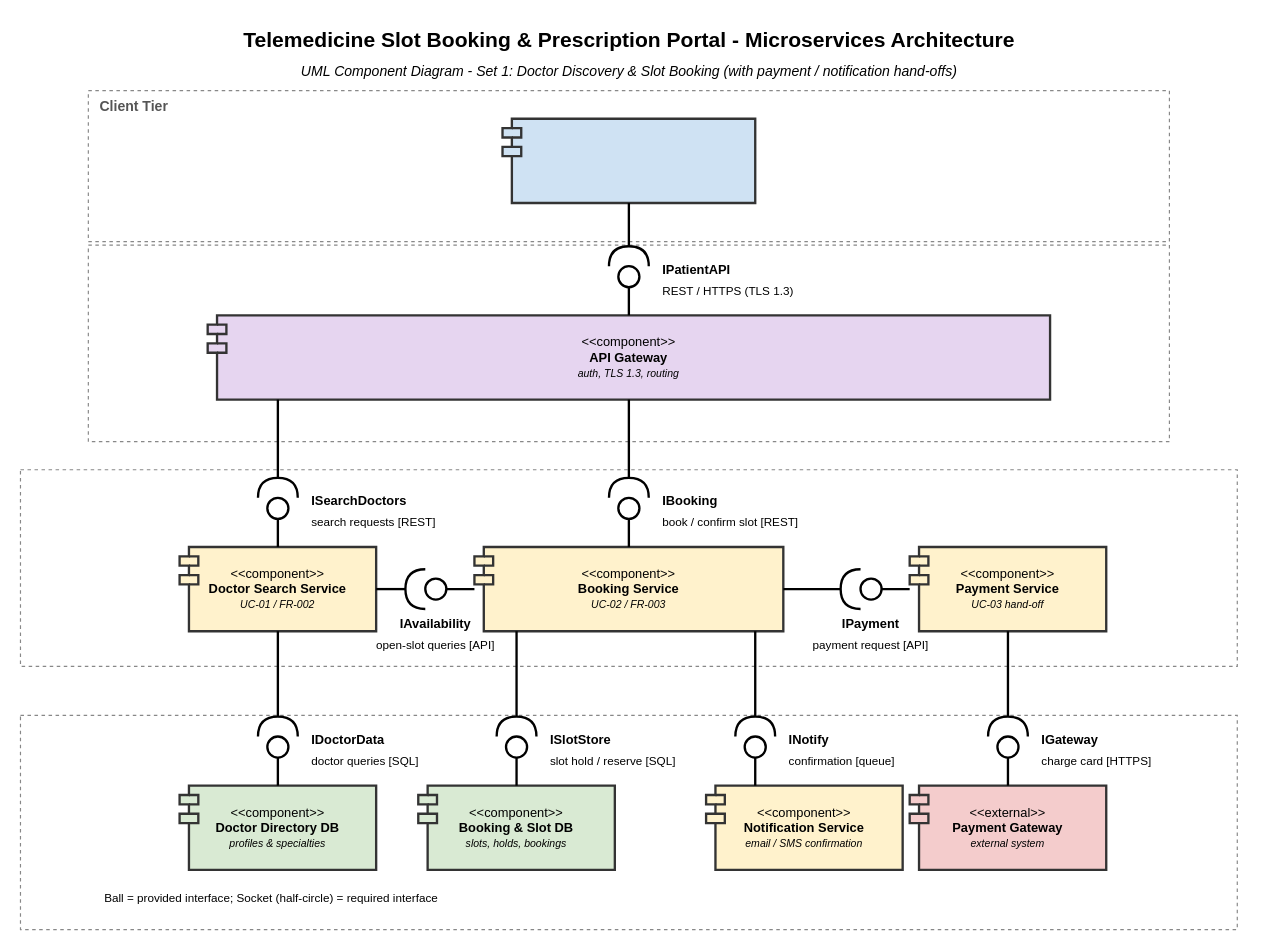
Some shapes in this 1285 by 950 pixel diagram are drawn without their labels. Here are the shapes that lost their labels. From the top down, the box of each, then its label:
(501, 117, 756, 204): <<component>> Patient Web / Mobile App Patient actor
(87, 244, 1169, 442): Edge / API Tier
(19, 469, 1237, 666): Business Microservices
(19, 714, 1237, 930): Data & External Systems
